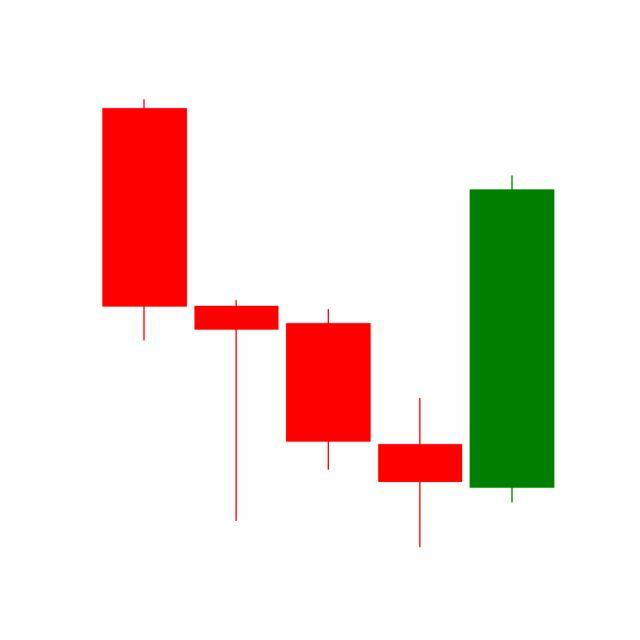Three Line Strike: (189, 171, 555, 549)
